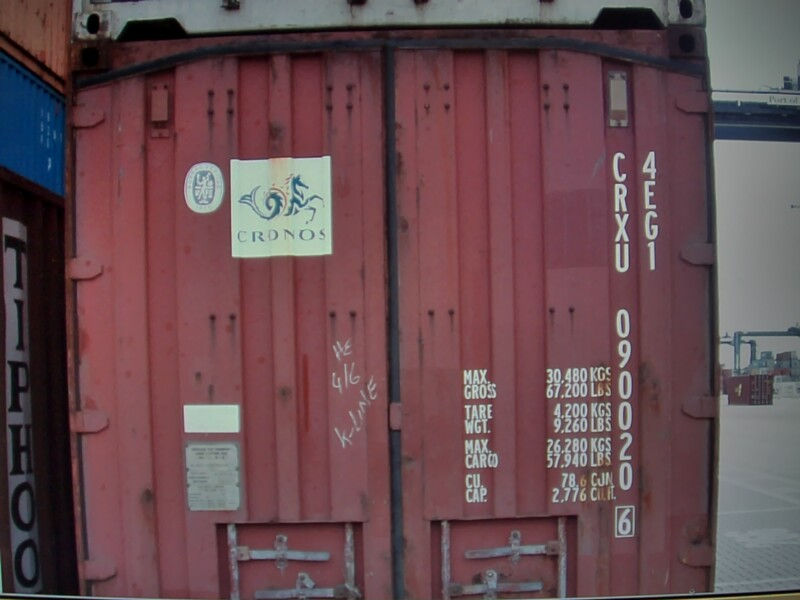container_door: (69, 42, 723, 600)
